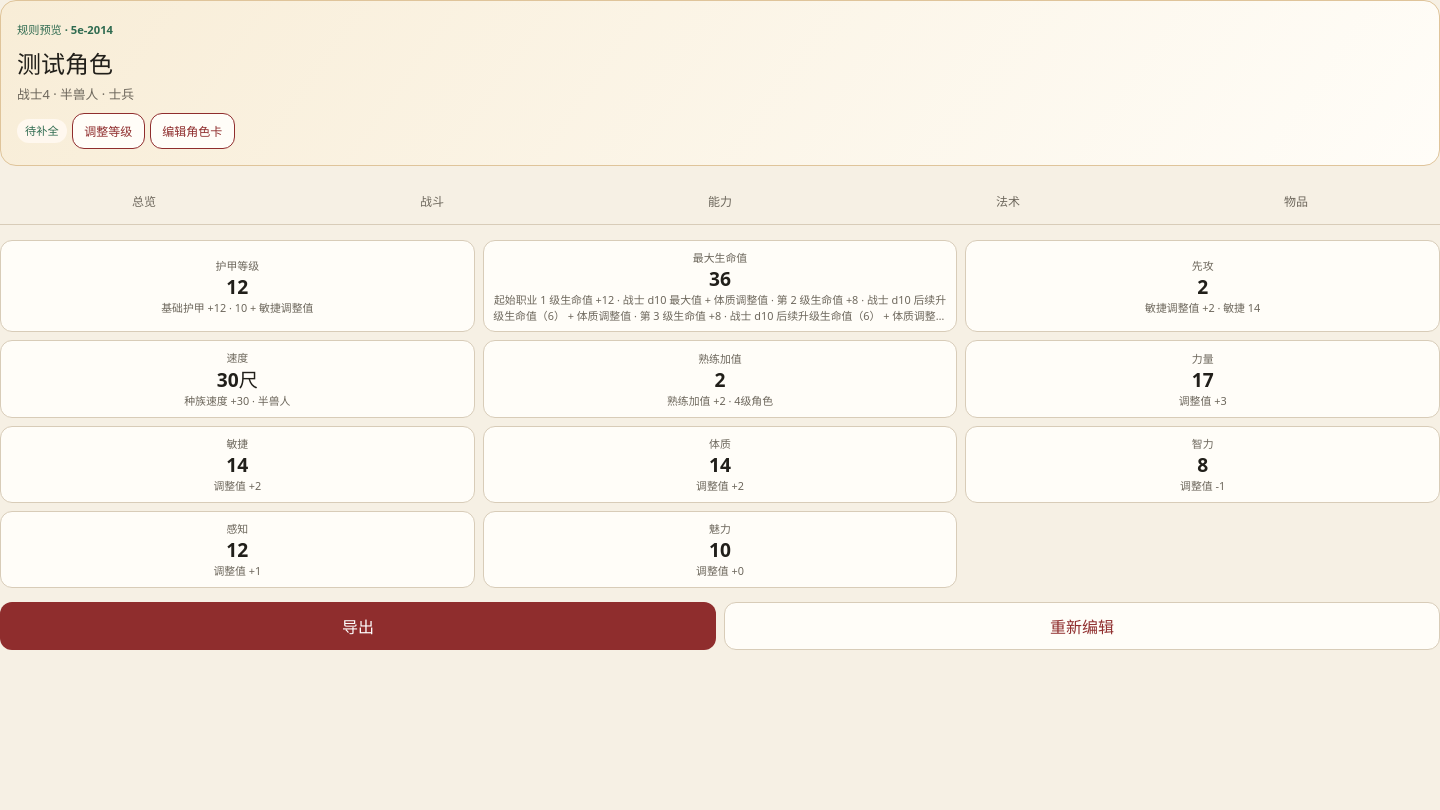
CharacterSheetStep › uses Chinese labels for abilities, saving throws, and skills
This screenshot has width=1440, height=810.
What coordinates should you click on to do the following:
click the tab "能力"
I would click on:
 (720, 202)
Its box is top-left (576, 180), bottom-right (864, 224).
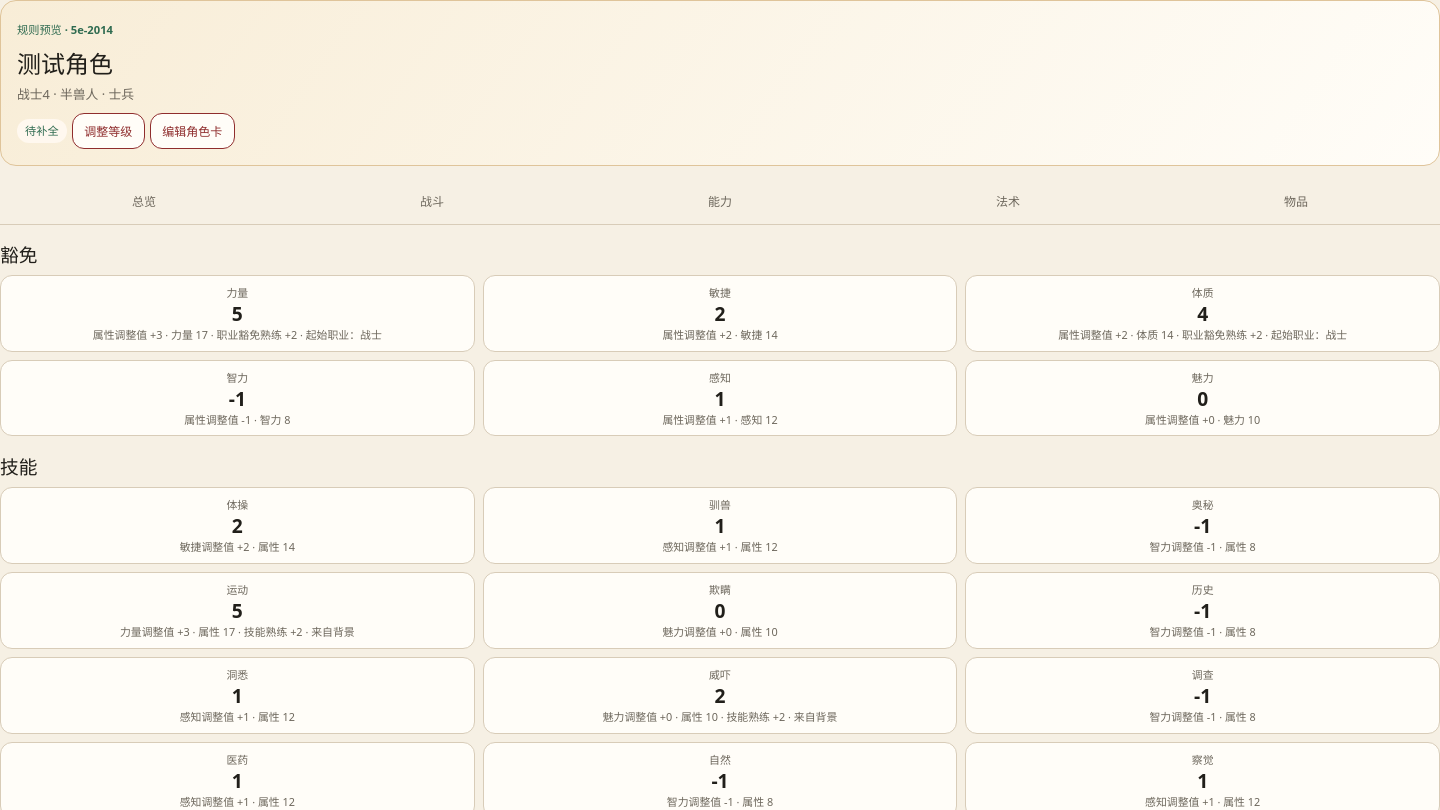
Result: the text "体操" is shown at top-left (226, 496), bottom-right (248, 512)
Result: the text "驯兽" is shown at top-left (709, 496), bottom-right (731, 512)
Result: the text "奥秘" is shown at top-left (1192, 496), bottom-right (1214, 512)
